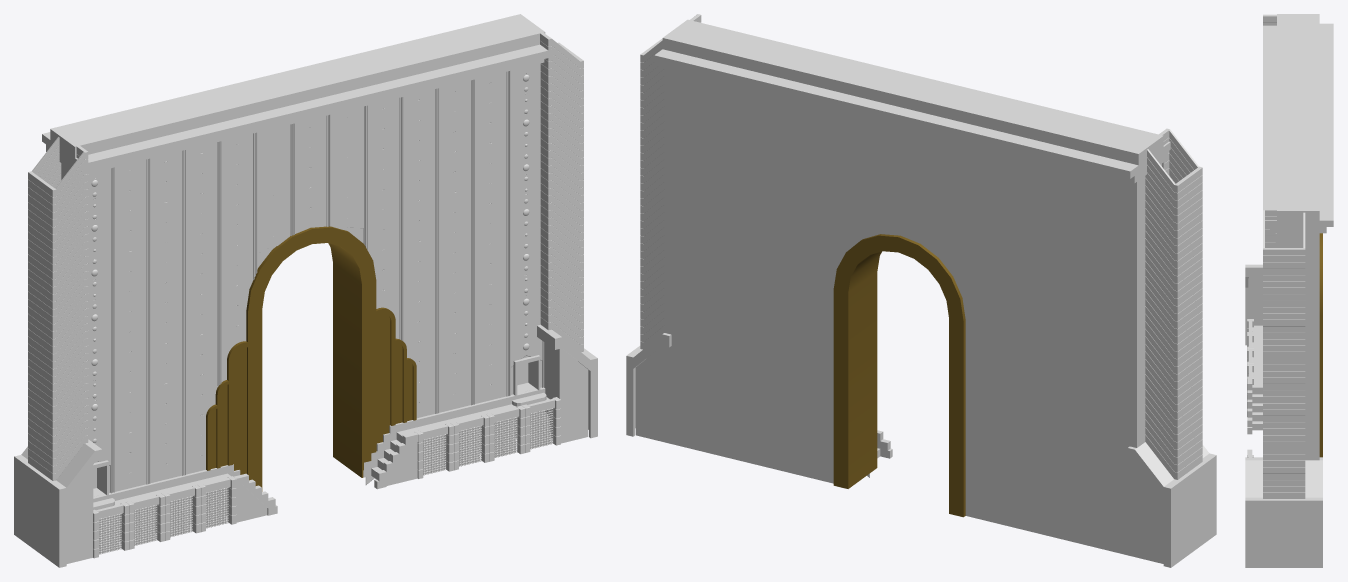
File: wall.fbx
The picture shows the model from 3 angles, left to right: view 1: azimuth 30°, elevation 25°; view 2: azimuth 150°, elevation 25°; view 3: azimuth 270°, elevation 25°; orthographic projection. The views are drawn at different scales.
Parts seen in each view (by area): view 1: chevrons 3 thick, chevrons.3 thin, side wall_chimney, Roof, Cylinder.004, chevrons.4 thick, column_thin, chevrons 2.thick, chevrons.4 thin, side wall_trim, Foundation_Grate, side wall_base (+15 smaller); view 2: Wall_back, Cylinder.004, Roof, side wall_chimney, side wall_trim, side wall_base; view 3: Roof, side wall_chimney, side wall_trim, Wall_back, Cylinder.004, Stairs.backup.stairs, walkway.array, side wall_base, Stairs.array.004.
Part boxes in pixels (box(x1,y1,x2,y2)): chevrons 3 thick: box(113, 71, 507, 541); chevrons.3 thin: box(113, 72, 507, 534); side wall_chimney: box(28, 32, 583, 480); Roof: box(42, 14, 553, 173); Cylinder.004: box(246, 226, 376, 491); chevrons.4 thick: box(88, 63, 543, 465); column_thin: box(110, 70, 544, 493); chevrons 2.thick: box(256, 106, 365, 249); chevrons.4 thin: box(88, 64, 543, 460); side wall_trim: box(14, 324, 597, 567); Foundation_Grate: box(99, 408, 553, 554); side wall_base: box(66, 342, 588, 563); Wall_back: box(664, 69, 1161, 557); Cylinder.004: box(830, 109, 970, 517); Roof: box(654, 19, 1170, 183); side wall_chimney: box(640, 14, 1202, 479); side wall_trim: box(626, 333, 1216, 567); side wall_base: box(635, 346, 1163, 563); Roof: box(1263, 14, 1333, 233); side wall_chimney: box(1263, 14, 1305, 499); side wall_trim: box(1245, 264, 1322, 567); Wall_back: box(1277, 233, 1319, 460); Cylinder.004: box(1319, 233, 1322, 457); Stairs.backup.stairs: box(1247, 378, 1262, 454); walkway.array: box(1249, 321, 1262, 457); side wall_base: box(1249, 277, 1262, 325); Stairs.array.004: box(1247, 319, 1253, 457).
Size of the model in its own units: 75.5 by 54.84 by 12.5.
